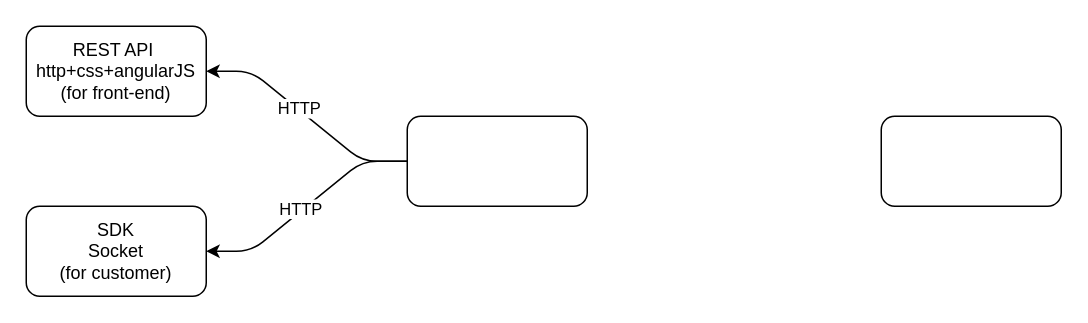
This 1088x323 diagram has some shape labels left out. The centre of each missing label's shape, as x and y in pixels:
fast CGI: (x=496, y=160)
INI config file: (x=970, y=160)
